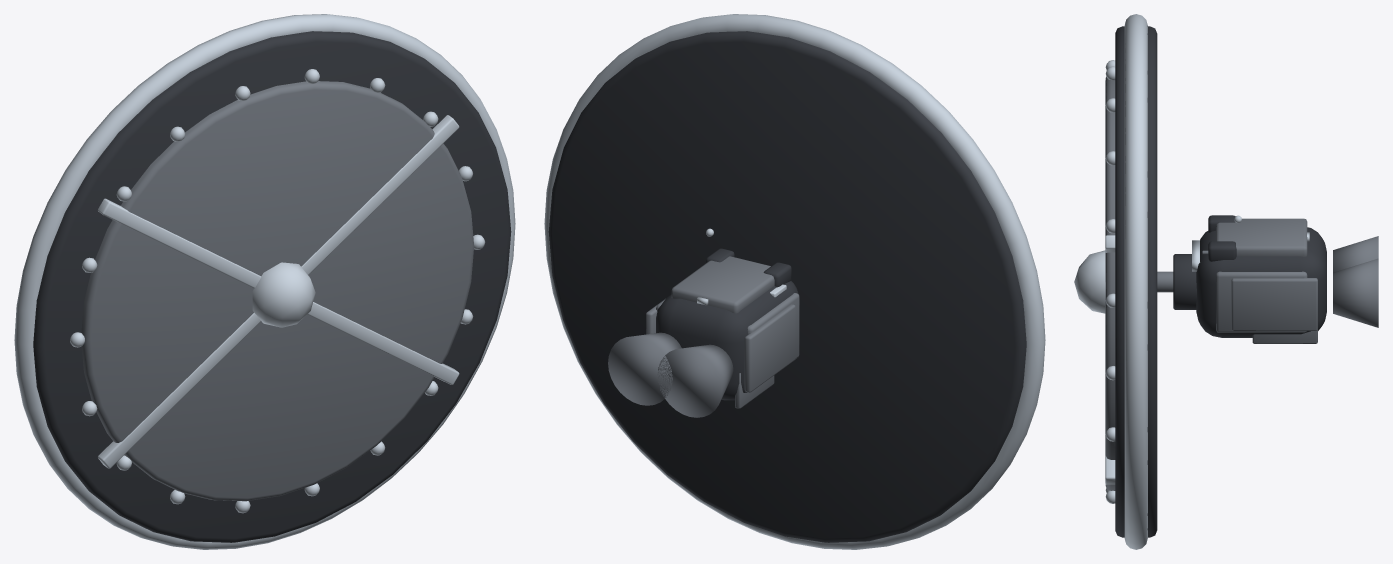
Rendered from weapon_drone_bulwark_plating.glb.
The picture shows the model from 3 angles, left to right: view 1: azimuth 30°, elevation 25°; view 2: azimuth 150°, elevation 25°; view 3: azimuth 270°, elevation 25°; orthographic projection. The views are drawn at different scales.
Visible parts, largest first — view 1: weapon_drone_bulwark_plating; view 2: weapon_drone_bulwark_plating; view 3: weapon_drone_bulwark_plating.
Part boxes in pixels (x1=…): weapon_drone_bulwark_plating: x1=14, y1=14, x2=515, y2=549; weapon_drone_bulwark_plating: x1=544, y1=14, x2=1045, y2=549; weapon_drone_bulwark_plating: x1=1074, y1=14, x2=1378, y2=549.
Size of the model in its own units: 3.04 by 3.04 by 1.72.
